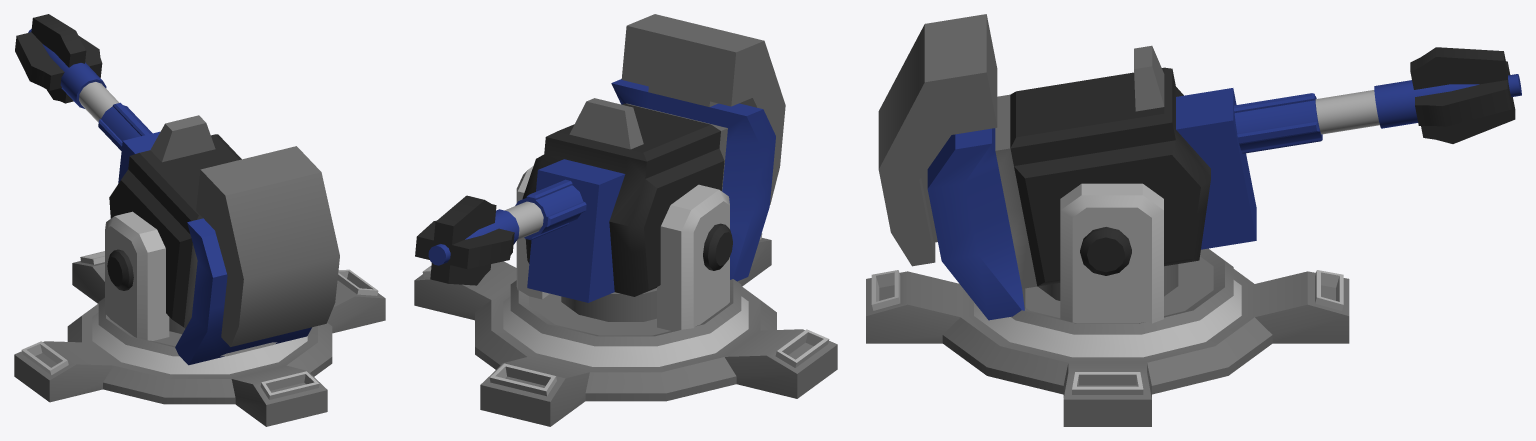
The model's file is tower_5.fbx.
3 renders of one model, left to right at view 1: azimuth 30°, elevation 25°; view 2: azimuth 150°, elevation 25°; view 3: azimuth 270°, elevation 25°, orthographic. The views are drawn at different scales.
Parts seen in each view (by area): view 1: 立方体; view 2: 立方体; view 3: 立方体.
Boxes of the visible parts, x1=… form: 立方体: x1=14, y1=14, x2=385, y2=426; 立方体: x1=414, y1=14, x2=837, y2=426; 立方体: x1=866, y1=14, x2=1521, y2=426.
Bounding box in the file's own units: 85.99 × 55.31 × 117.
